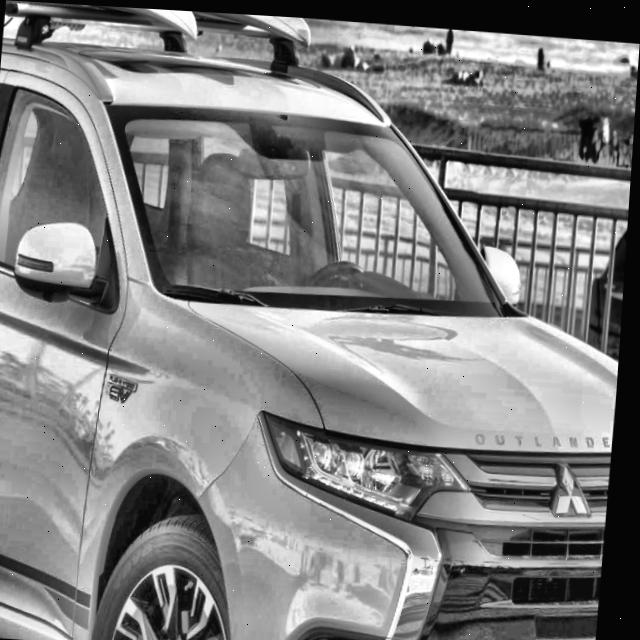light_vehicle: (0, 2, 640, 640)
